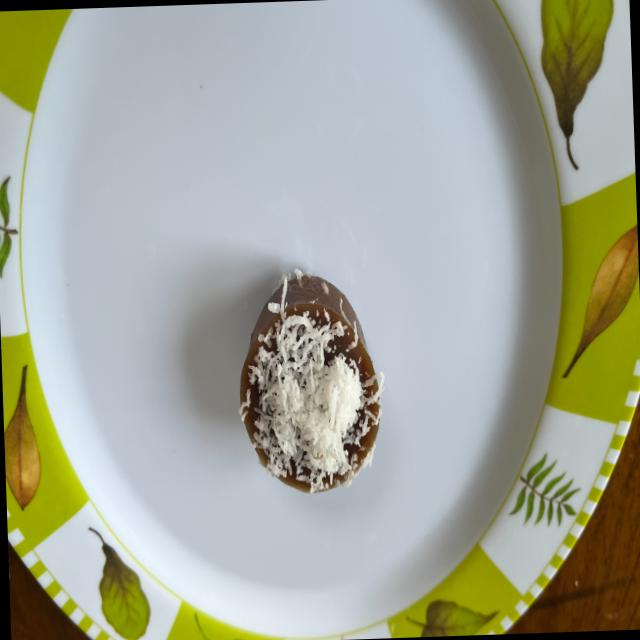Kuih lompang: (239, 267, 381, 492)
